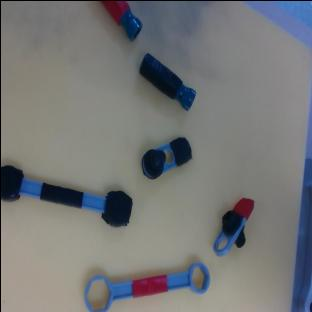part_1_bad: (134, 132, 196, 181)
part_1_good: (210, 193, 255, 261)
part_2_bad: (133, 52, 200, 111)
part_3_bad: (0, 163, 135, 229)
part_3_good: (80, 255, 212, 312)
